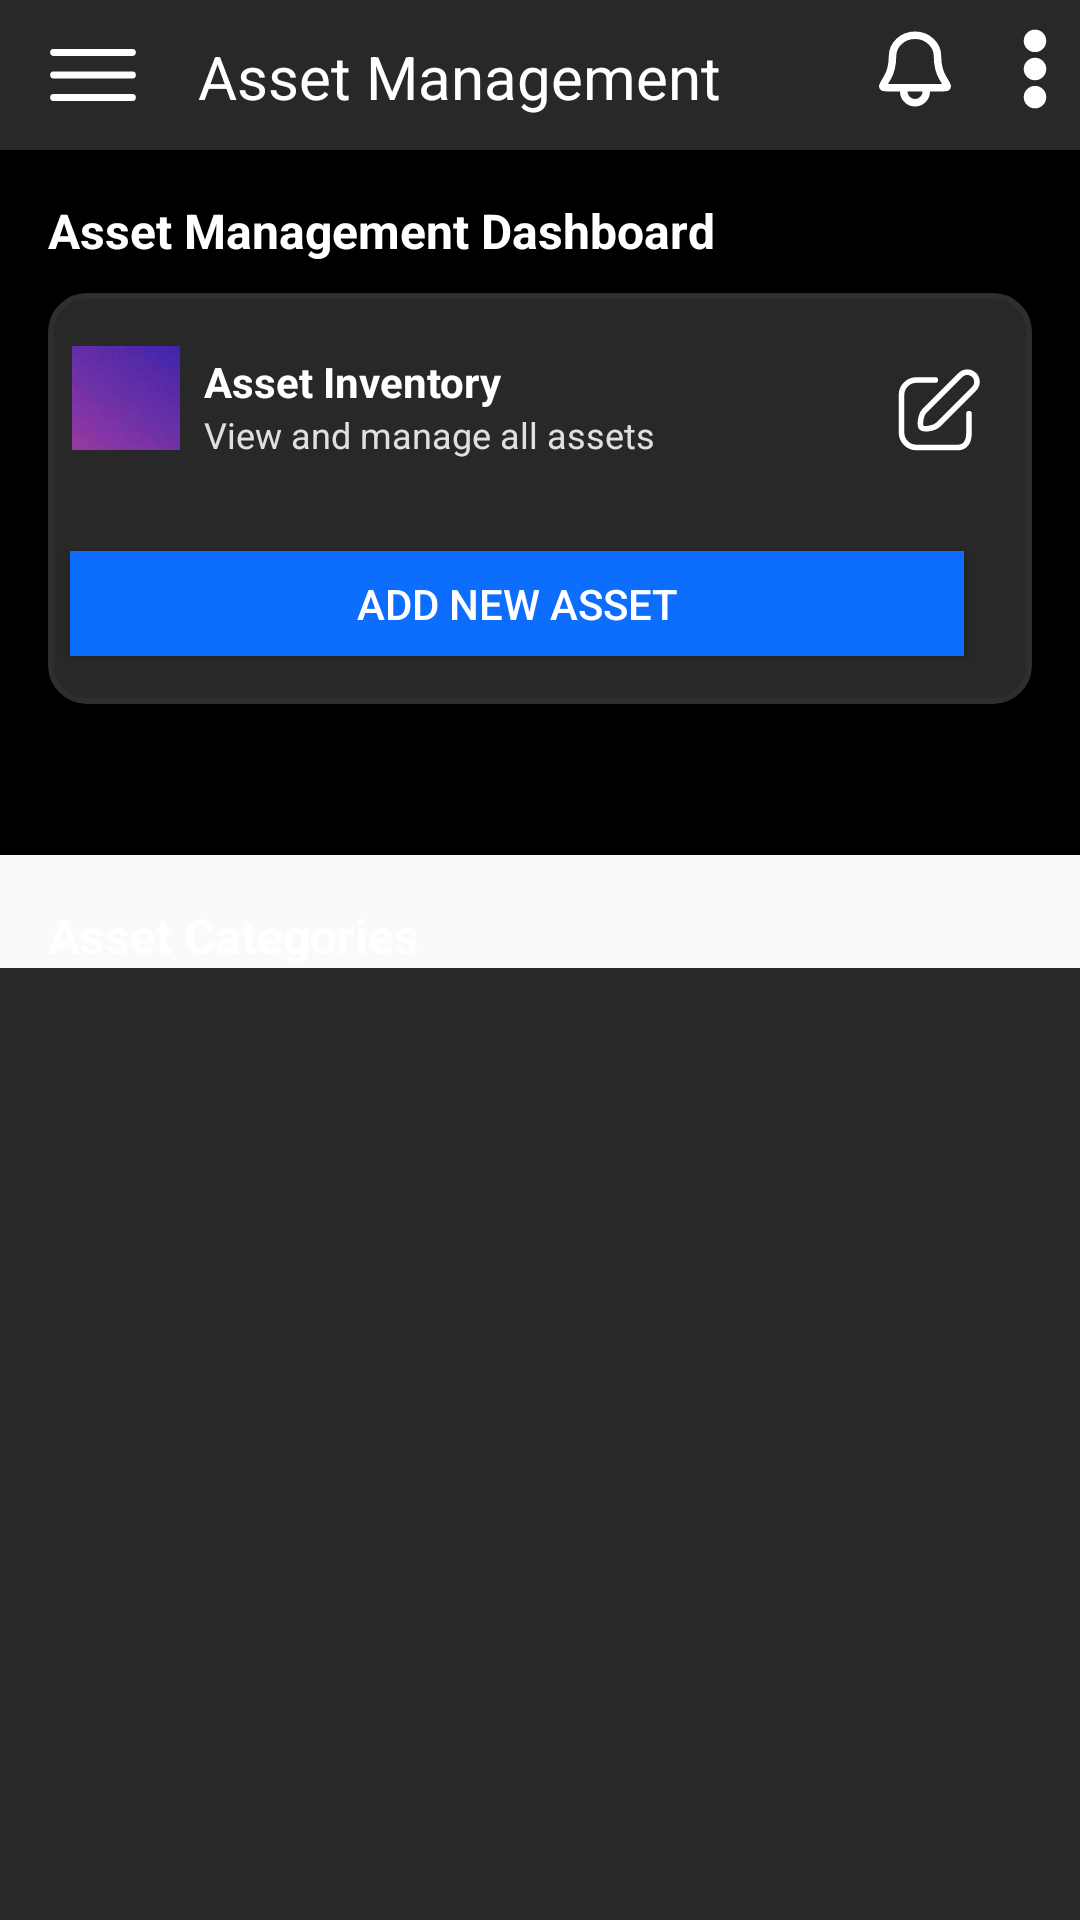

Icon bounding boxes for this 1080*1920 phone screenshot, format [left=x1, top=y1, right=x2, bottom=y2]:
bars: [left=50, top=49, right=136, bottom=101]
bell: [left=879, top=31, right=951, bottom=107]
edit: [left=898, top=369, right=980, bottom=451]
options: [left=1023, top=29, right=1047, bottom=109]
